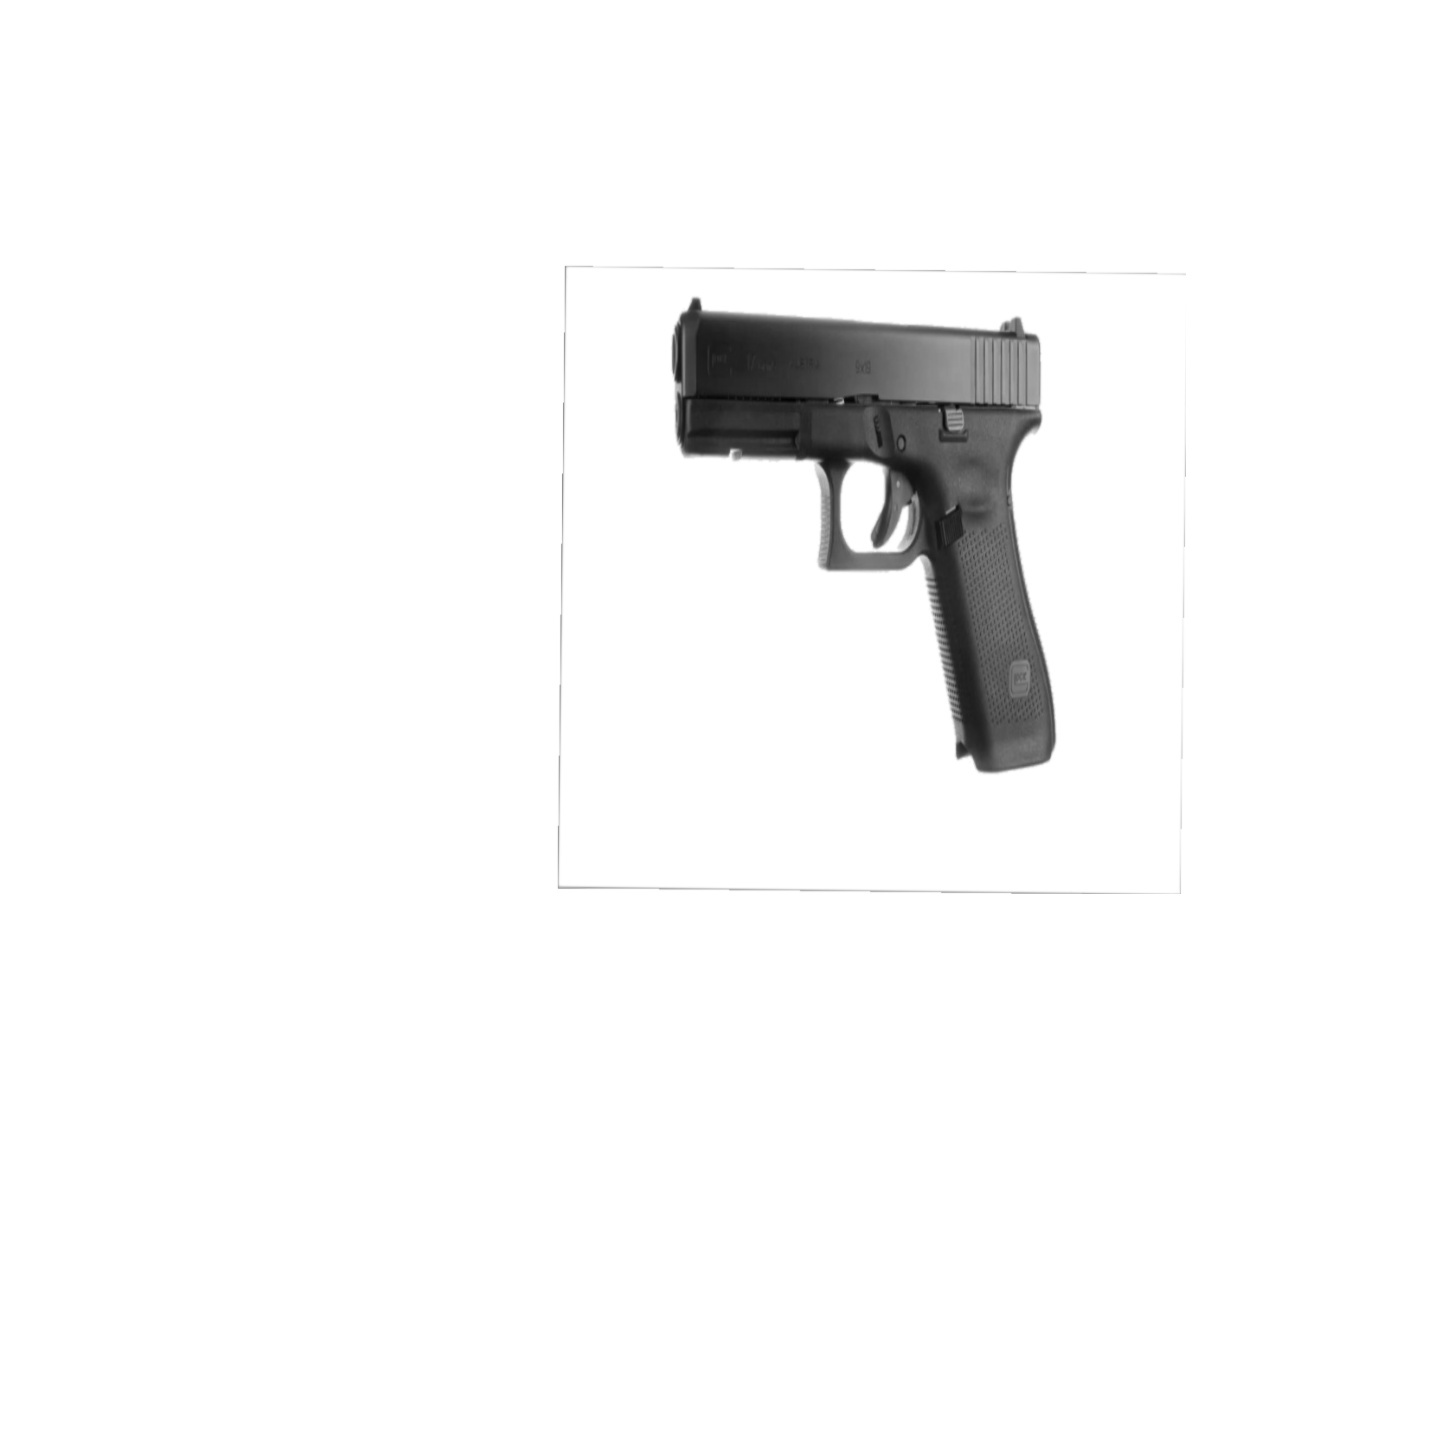gun: (665, 298, 1067, 782)
